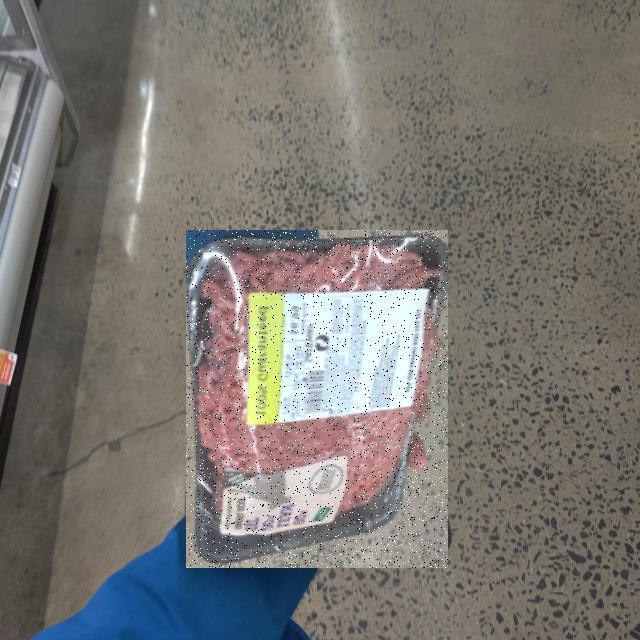Meat: (187, 230, 449, 568)
